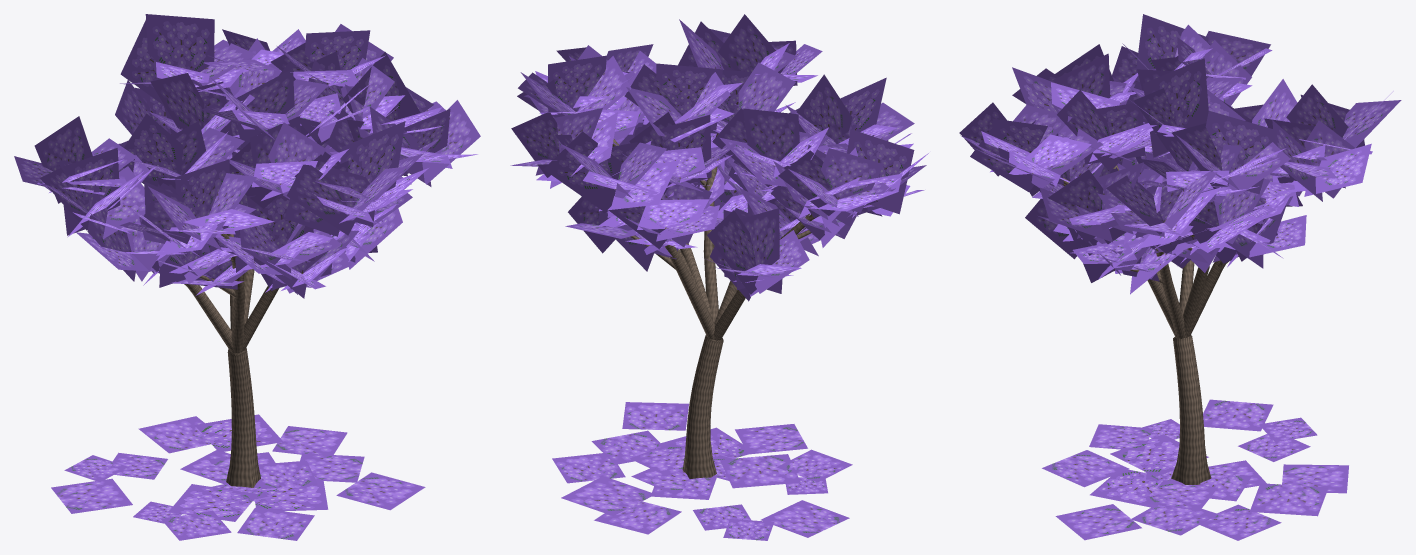
Rendered from phuong_tim_dalat.glb.
3 renders of one model, left to right at view 1: azimuth 30°, elevation 25°; view 2: azimuth 150°, elevation 25°; view 3: azimuth 270°, elevation 25°, orthographic. The views are drawn at different scales.
Parts seen in each view (by area): view 1: phuong_tim_dalat; view 2: phuong_tim_dalat; view 3: phuong_tim_dalat.
Boxes of the visible parts, bbox=[...] form: phuong_tim_dalat: bbox=[14, 14, 480, 540]; phuong_tim_dalat: bbox=[510, 14, 928, 540]; phuong_tim_dalat: bbox=[959, 14, 1401, 540].
Bounding box in the file's own units: 10.6 × 10.26 × 10.08.
Materials: 2 (2 with a texture image).
